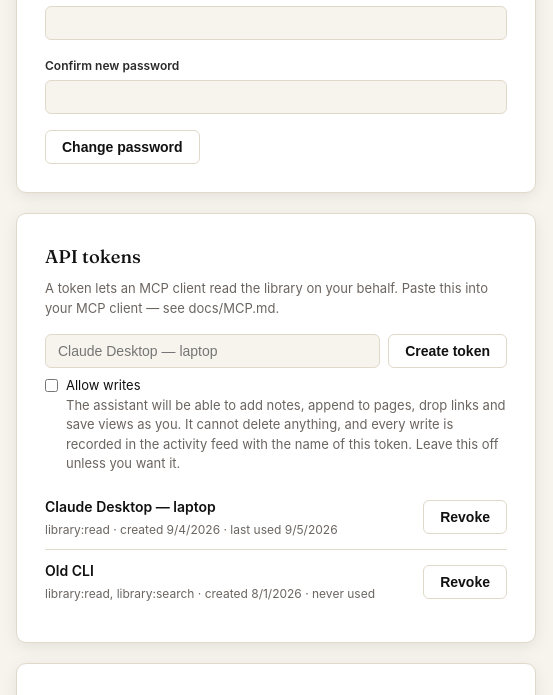
Test: AccountView (P5-50) › shows a failed mint as an error and adds no row
(page scrolled)
Type "New client" into the field with test id "token-name-input". click: {"x": 213, "y": 351}
box: [45,334,380,368]
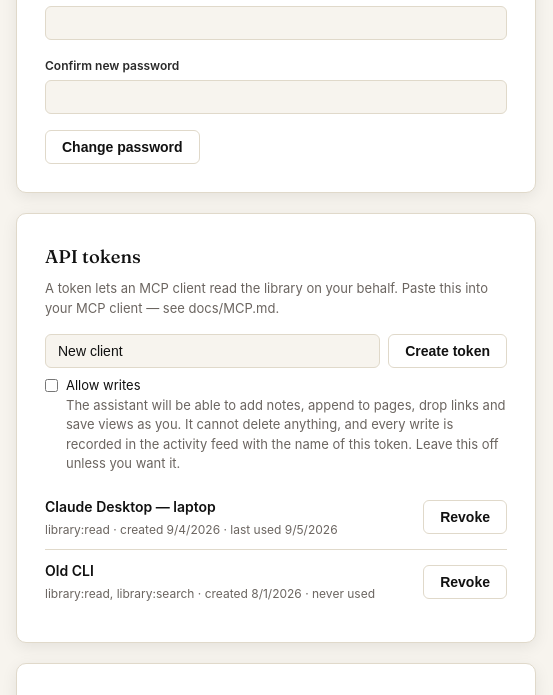
Submit the form that starts with "Create token", box [45,334,507,474]
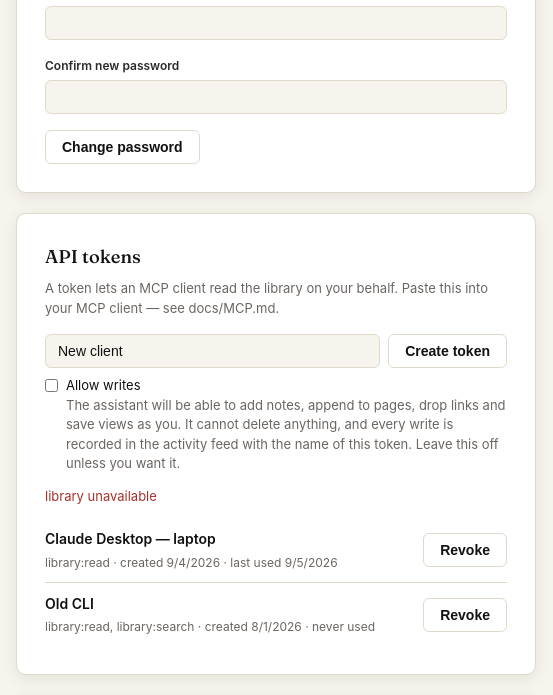
expect the text with test id "token-error" reads "library unavailable": met, box [45,488,157,504]
